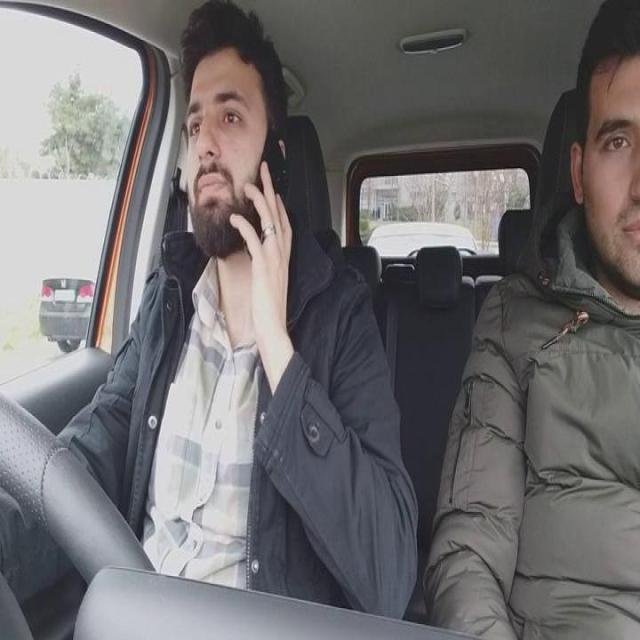phone: (251, 125, 291, 235)
